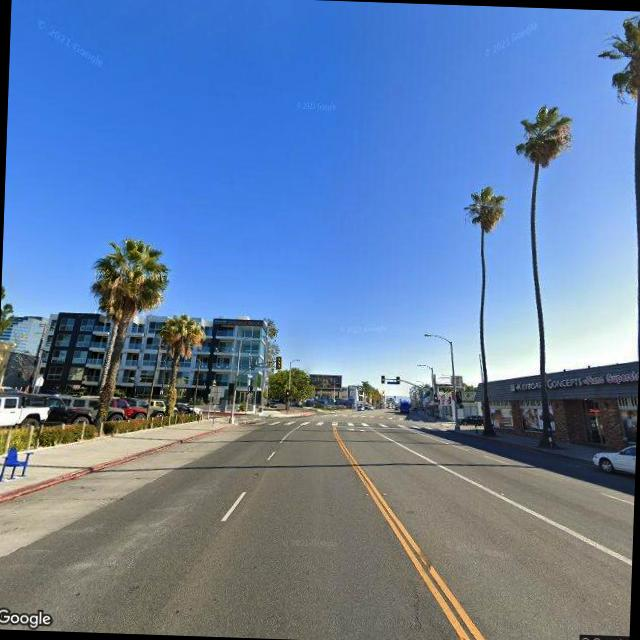pothole: (406, 582, 427, 637)
